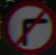Don't turn right: (9, 4, 49, 46)
